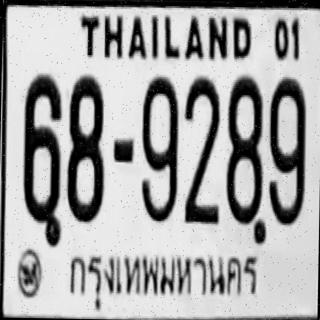N02: (182, 75, 220, 224)
N06: (21, 72, 62, 244), (22, 73, 62, 225)
N08: (224, 75, 264, 224), (66, 74, 105, 221)
N09: (139, 74, 178, 221), (267, 76, 305, 224)
P04: (62, 243, 266, 316)
